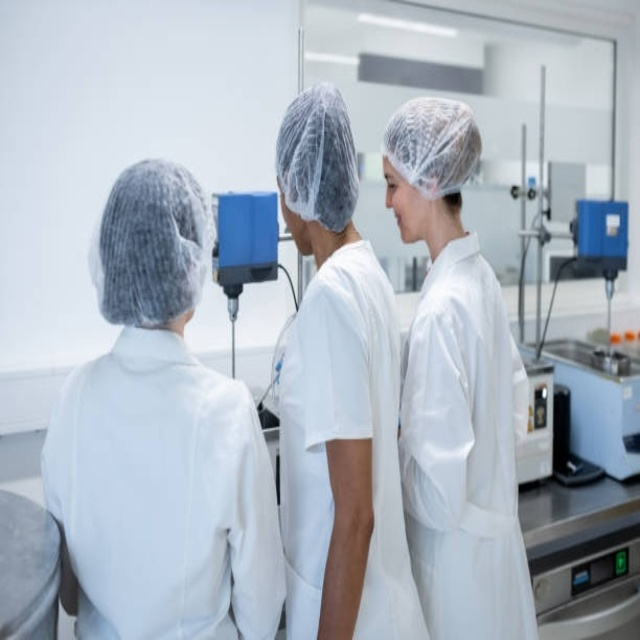Sin_gafas: (385, 165, 406, 199)
Sin_mascara: (389, 202, 415, 238)
